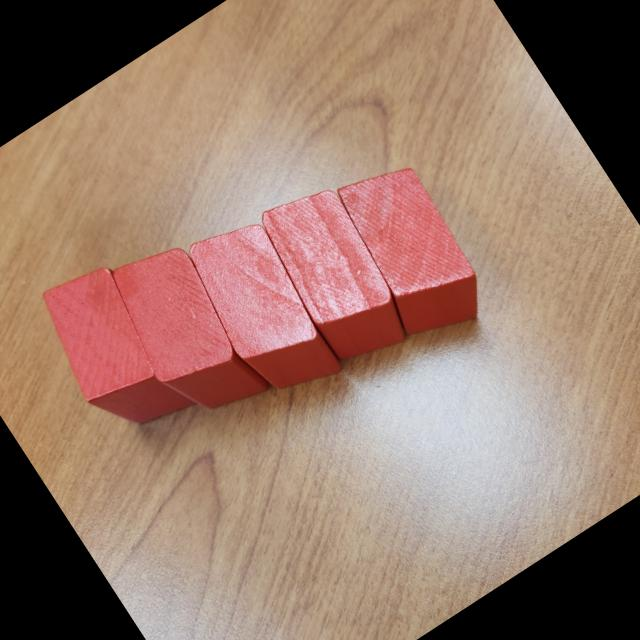red: (94, 230, 276, 438), (173, 206, 353, 415), (320, 147, 500, 355), (23, 252, 200, 453), (248, 174, 424, 376)
